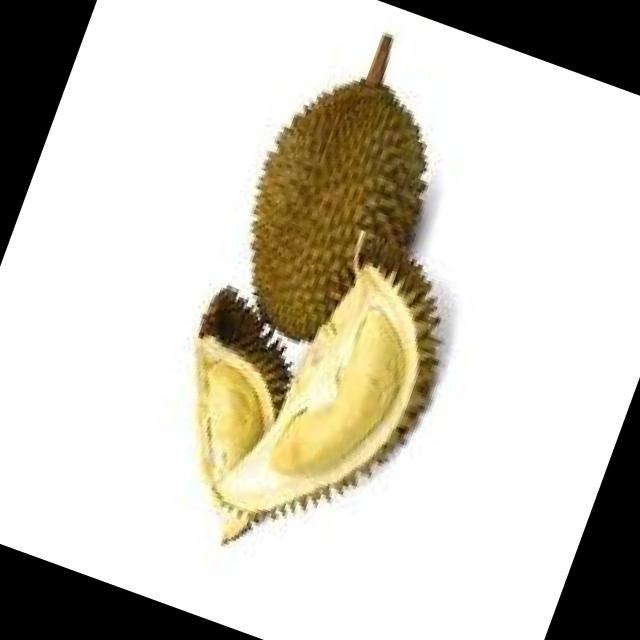fruit: (170, 24, 500, 402)
